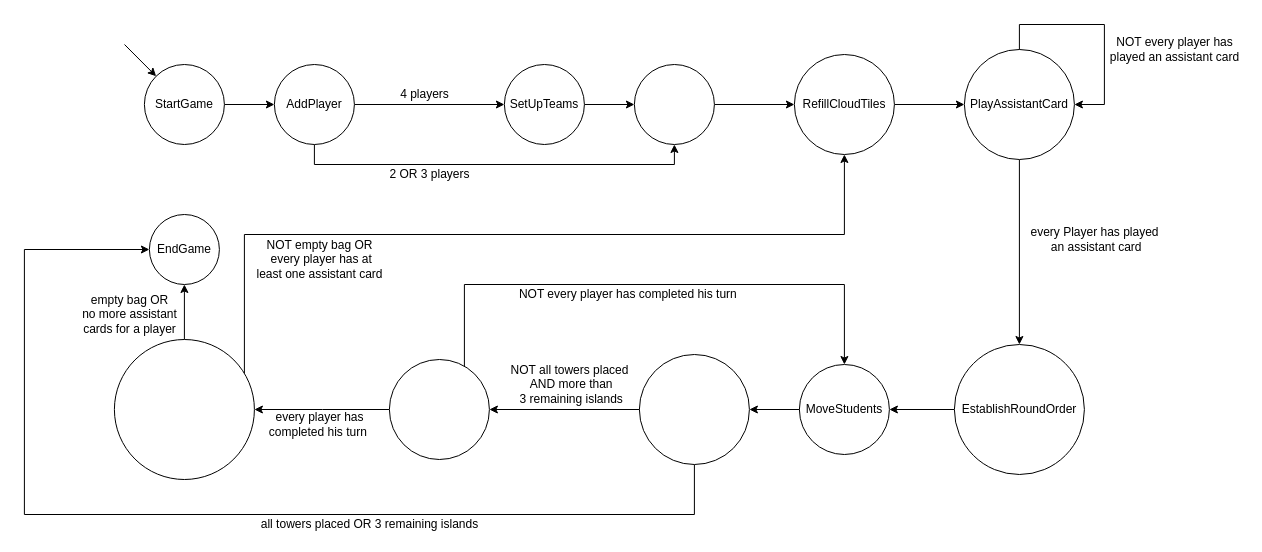
The diagram is 1262 pixels wide and 552 high, and some of its shapes have lost their labels. The shapes that lost their labels are listed below. From the top down, each one's box as (x1, y1, x2, y2) in pixels, then its label:
(633, 64, 714, 144): Initialize
(113, 338, 254, 480): NextRoundOrEndGame
(388, 358, 489, 460): ChooseCloudTile
(638, 354, 749, 464): MoveMotherNature
